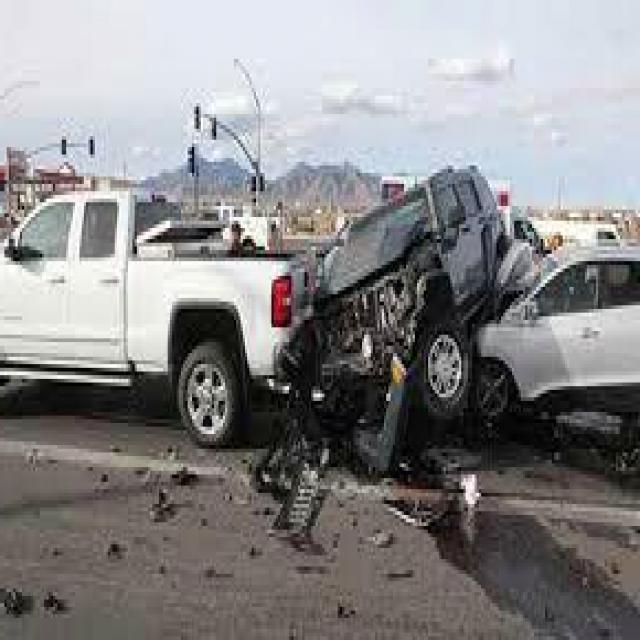multiple_accident: (391, 147, 584, 459), (197, 246, 374, 433)
